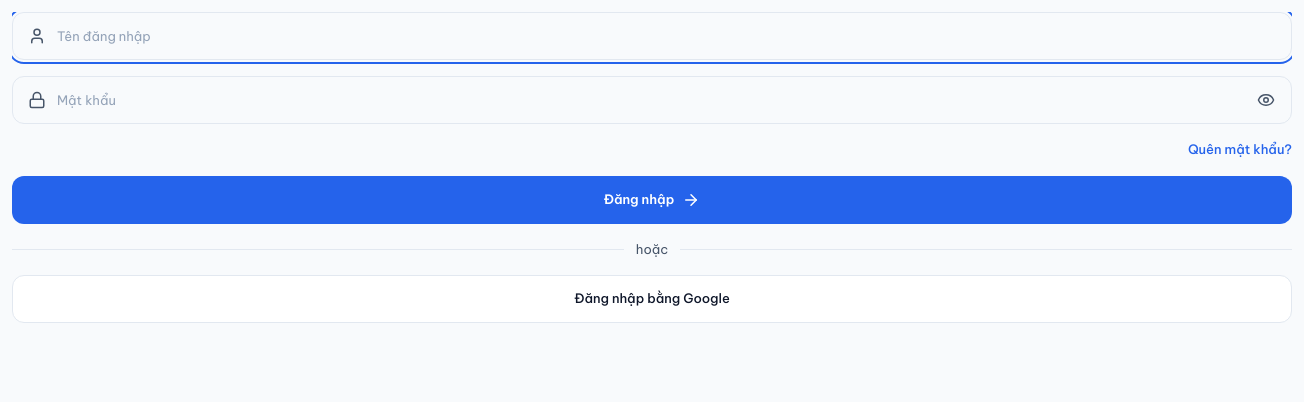
Test case: LoginForm — nút Google › lỗi mạng khi bắt đầu → mở lại nút + thông báo tiếng Việt
Click the button "Đăng nhập bằng Google".
click(652, 299)  # box [12, 275, 1292, 323]
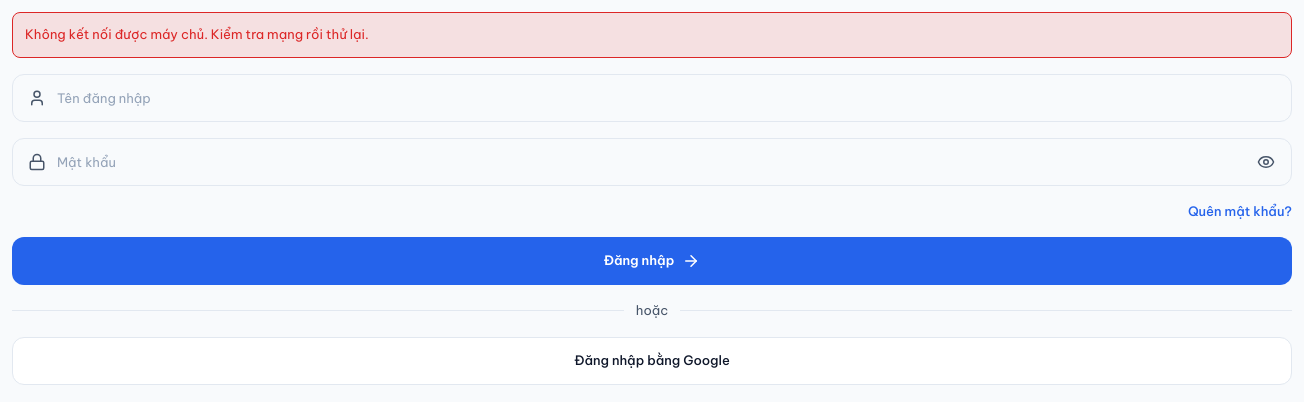
Expected: the button "Đăng nhập bằng Google" is enabled, [12, 336, 1292, 384]
Expected: the message shows "Không kết nối được máy chủ", [25, 26, 369, 42]
